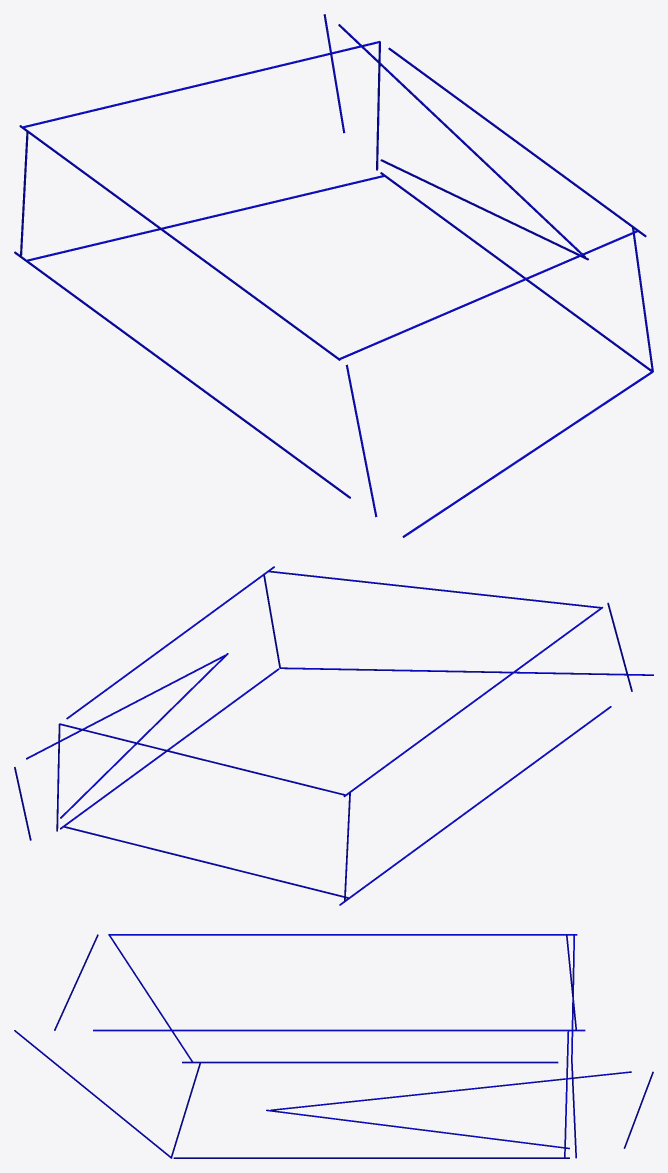
Rendered from corrected_3d_strokes.glb.
3 views of the same model, one above another, from view 1: azimuth 30°, elevation 25°; view 2: azimuth 150°, elevation 25°; view 3: azimuth 270°, elevation 25° (orthographic). The views are drawn at different scales.
Visible parts, largest first — view 1: world; view 2: world; view 3: world.
Part boxes in pixels (box(x1,y1,x2,y2)): world: box(14, 14, 653, 537); world: box(14, 566, 653, 905); world: box(14, 934, 653, 1158).
Size of the model in its own units: 7.31 by 2.58 by 15.41.
